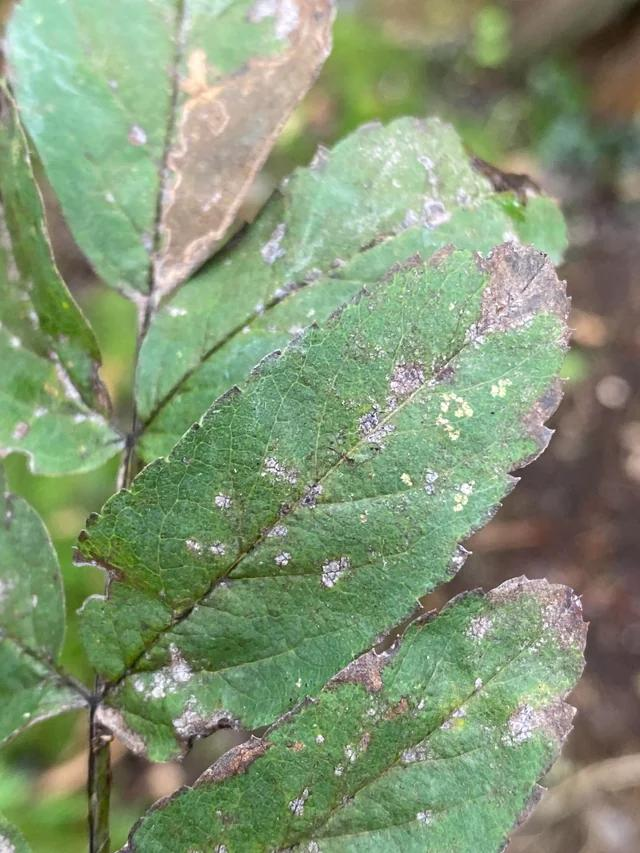powdery_mildew: (80, 42, 595, 807)
